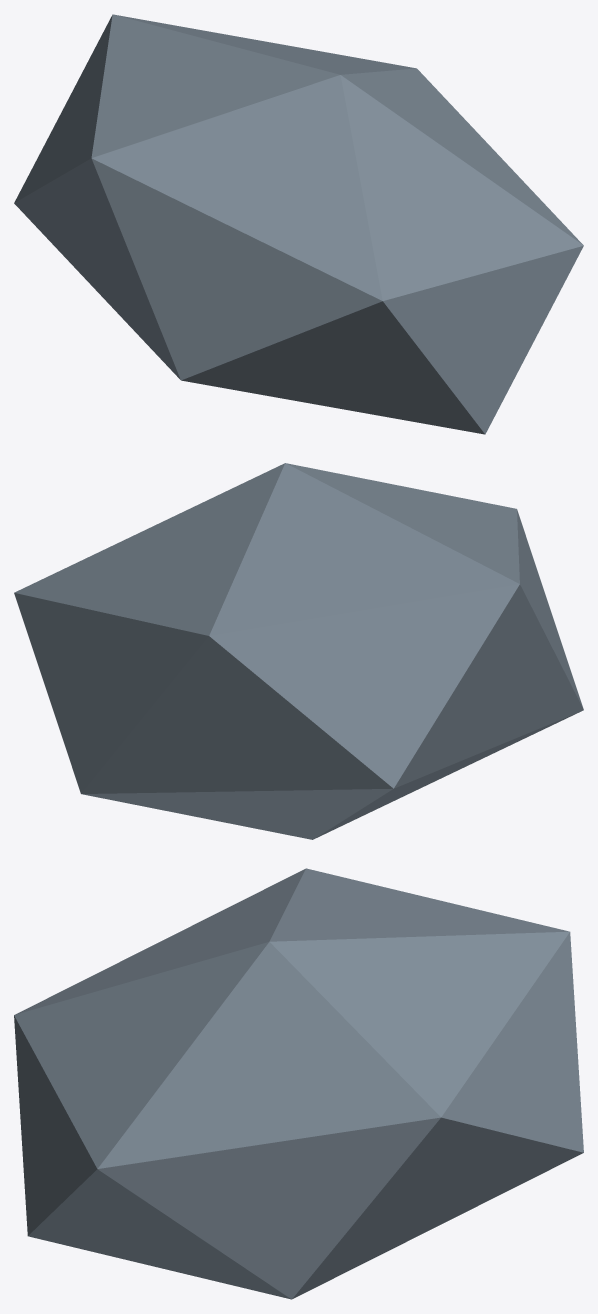
The model's file is INT_A_WallRubble_01_Stone_3.glb.
The picture shows the model from 3 angles, top to bottom: view 1: azimuth 30°, elevation 25°; view 2: azimuth 150°, elevation 25°; view 3: azimuth 270°, elevation 25°; orthographic projection. The views are drawn at different scales.
Parts seen in each view (by area): view 1: INT_A_WallRubble_01_Stone_3; view 2: INT_A_WallRubble_01_Stone_3; view 3: INT_A_WallRubble_01_Stone_3.
Boxes of the visible parts, x1=… form: INT_A_WallRubble_01_Stone_3: x1=14, y1=14, x2=583, y2=434; INT_A_WallRubble_01_Stone_3: x1=14, y1=463, x2=583, y2=839; INT_A_WallRubble_01_Stone_3: x1=14, y1=868, x2=583, y2=1299.
Bounding box in the file's own units: 0.2478 × 0.1784 × 0.2962.
